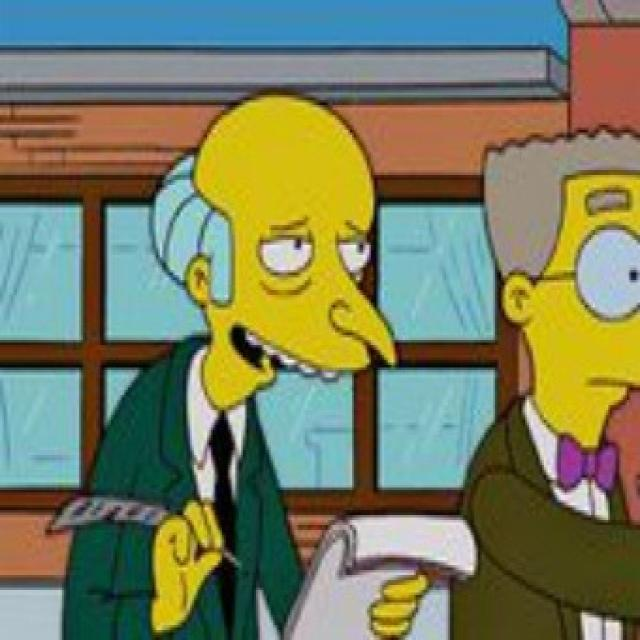Charles Montgomery Burns: (148, 91, 402, 419)
